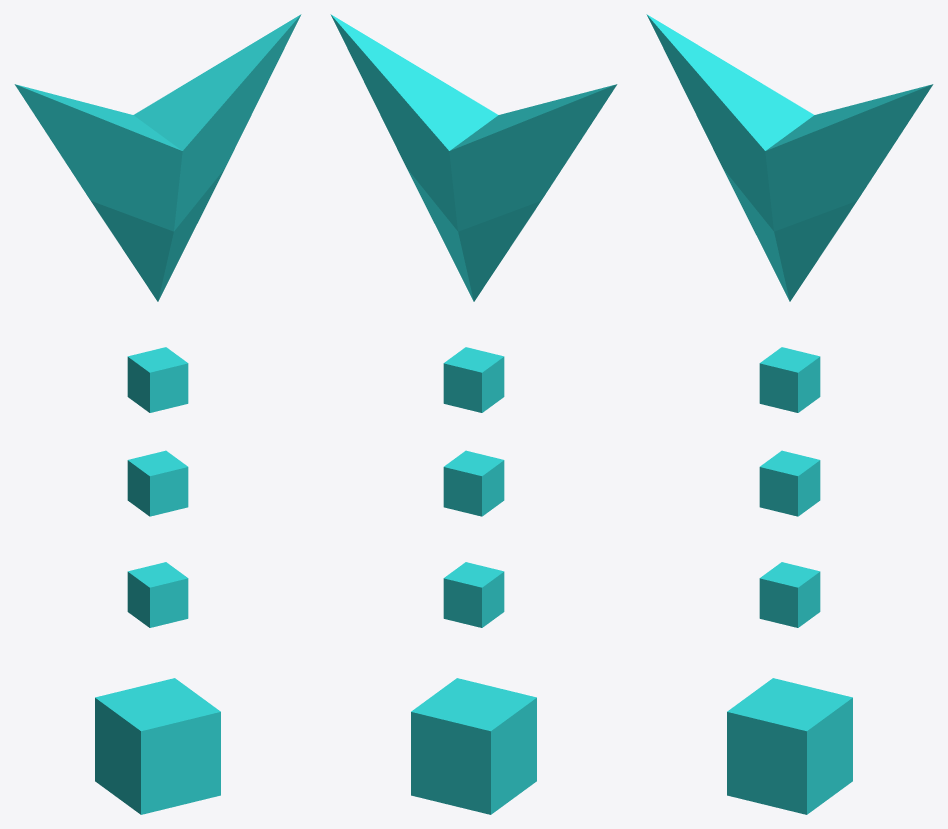
The model's file is mousePoint3D.glb.
The picture shows the model from 3 angles, left to right: view 1: azimuth 30°, elevation 25°; view 2: azimuth 150°, elevation 25°; view 3: azimuth 330°, elevation 25°; orthographic projection.
Visible parts, largest first — view 1: MousePoint; view 2: MousePoint; view 3: MousePoint.
Part boxes in pixels (box(x1,y1,x2,y2)): MousePoint: box(14, 14, 301, 814); MousePoint: box(330, 14, 617, 814); MousePoint: box(646, 14, 933, 814).
Size of the model in its own units: 1.15 by 2.83 by 0.3418.
